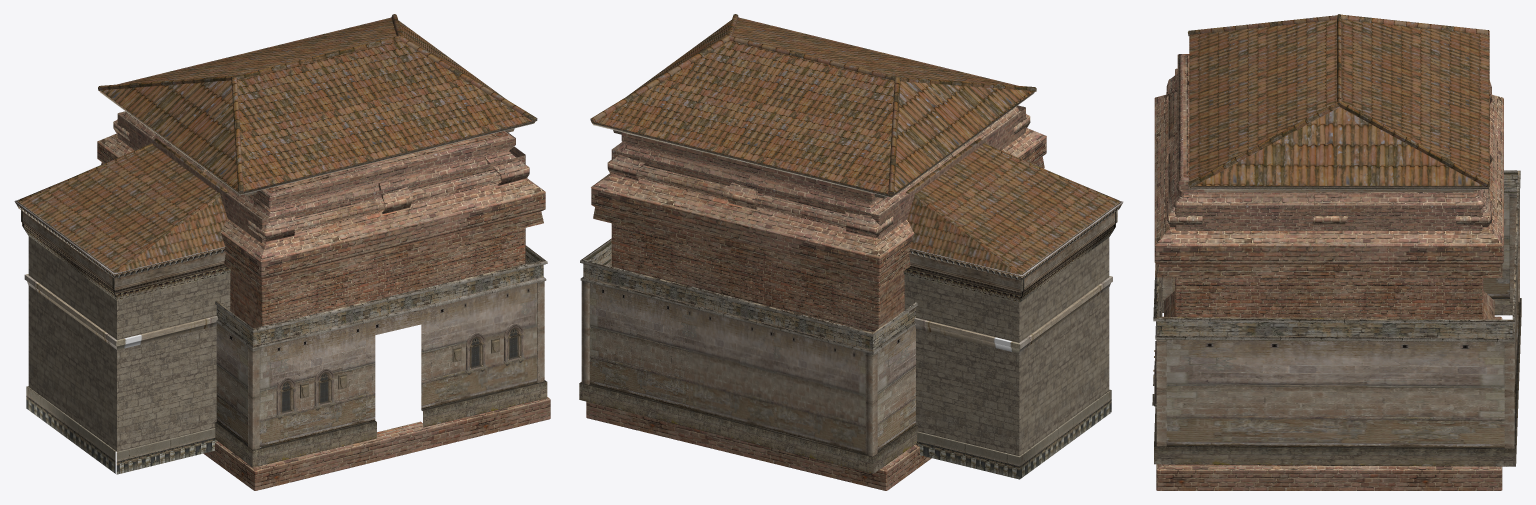
Rendered from .Tower5.fbx.
3 renders of one model, left to right at view 1: azimuth 30°, elevation 25°; view 2: azimuth 150°, elevation 25°; view 3: azimuth 270°, elevation 25°, orthographic. The views are drawn at different scales.
Visible parts, largest first — view 1: LV_Spechia_City_PrisonTower07_SM_KMS; view 2: LV_Spechia_City_PrisonTower07_SM_KMS; view 3: LV_Spechia_City_PrisonTower07_SM_KMS.
Part boxes in pixels (<box>): LV_Spechia_City_PrisonTower07_SM_KMS: <box>14,14,550,490</box>; LV_Spechia_City_PrisonTower07_SM_KMS: <box>579,14,1123,490</box>; LV_Spechia_City_PrisonTower07_SM_KMS: <box>1152,14,1521,490</box>.
Size of the model in its own units: 7.06 by 5.61 by 5.26.
Materials: 12 (12 with a texture image).
